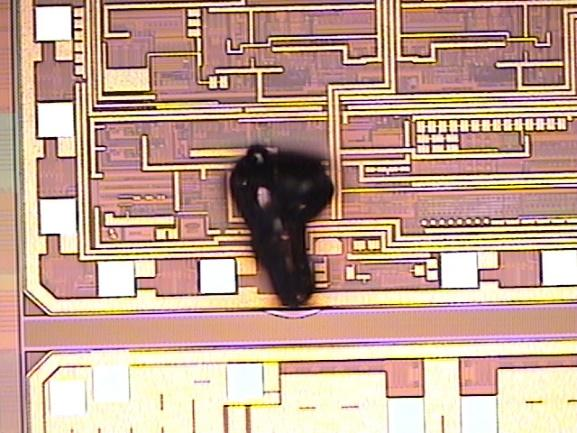PIQ PARTICLE: (222, 136, 343, 316)
